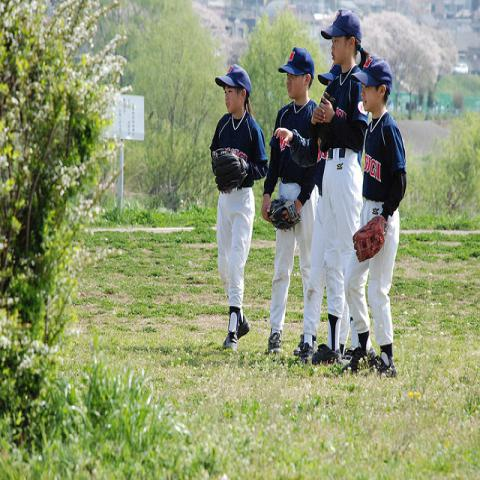car: (452, 63, 470, 75)
truck: (453, 62, 468, 75)
